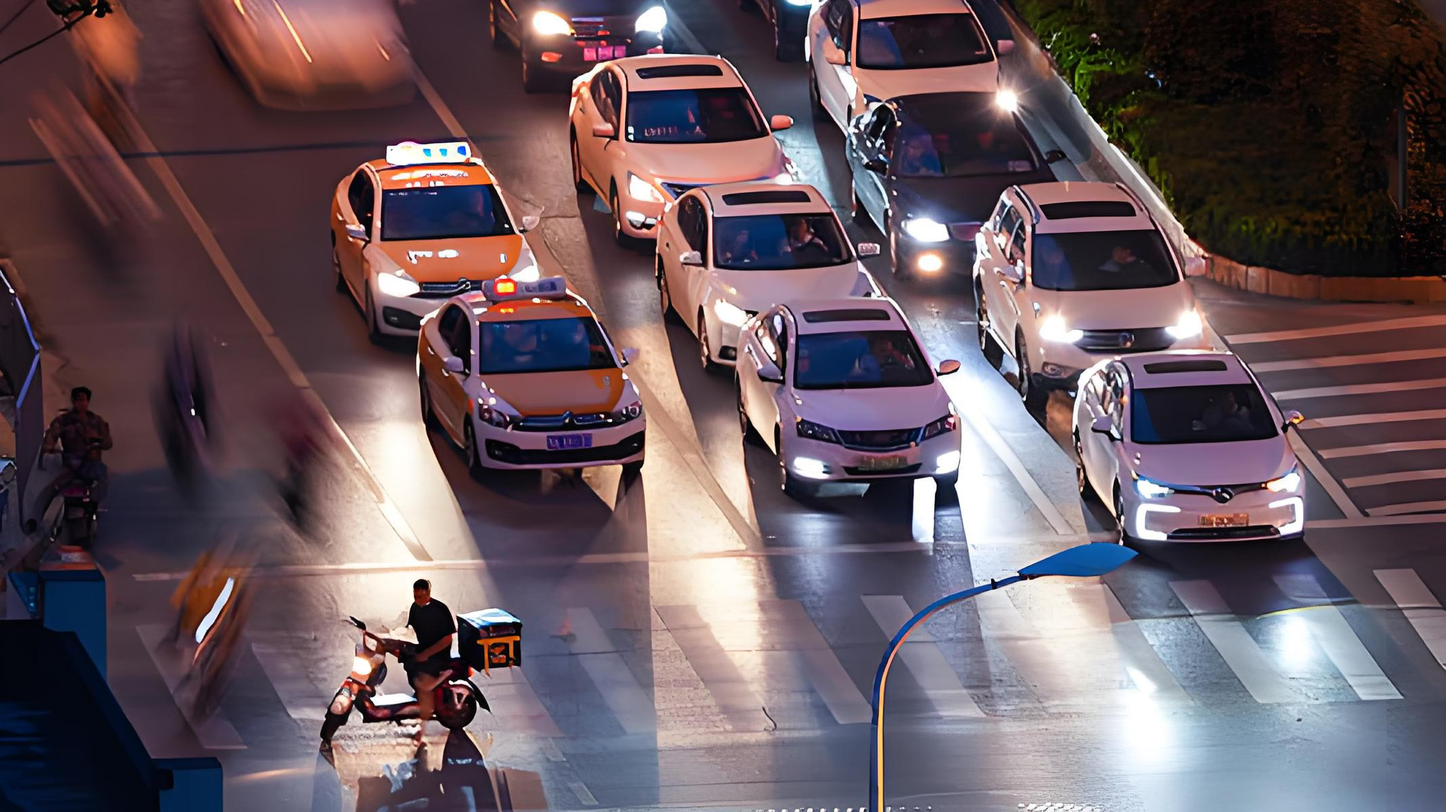car: (1061, 346, 1323, 561), (446, 238, 652, 487), (653, 152, 904, 337), (562, 58, 804, 240), (735, 315, 958, 512), (981, 189, 1211, 376), (799, 5, 1059, 156), (334, 148, 532, 339)
motorbike: (299, 584, 561, 732)
